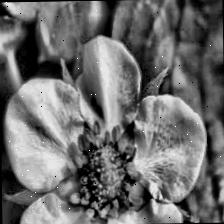Blossom Blight: (67, 117, 146, 224)
